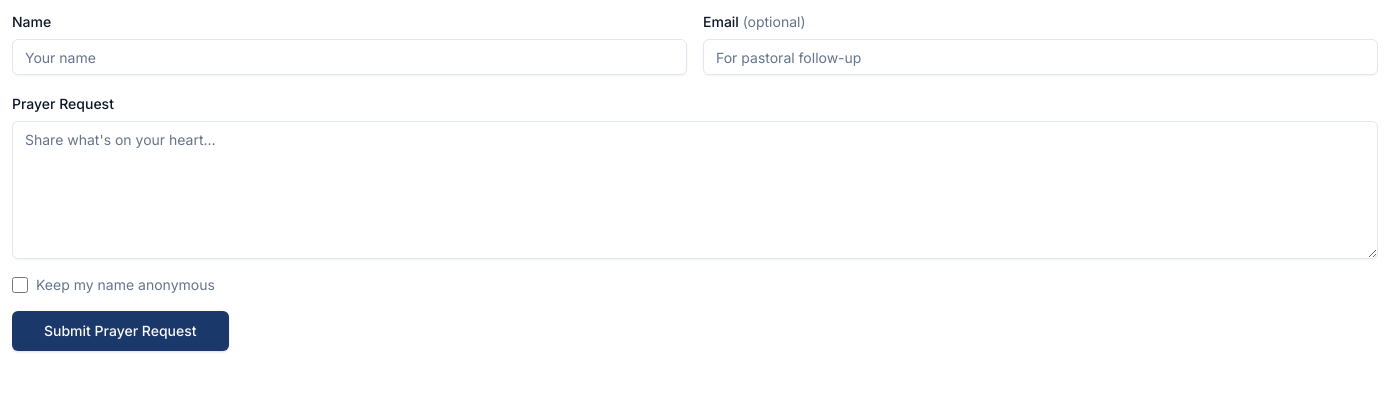
Test case: PrayerRequestForm › client-side validation on submit › shows "Name is required." when name is empty
This screenshot has width=1390, height=413.
Click the button "Submit Prayer Request".
click(120, 331)  # box x1=12 y1=311 x2=228 y2=351
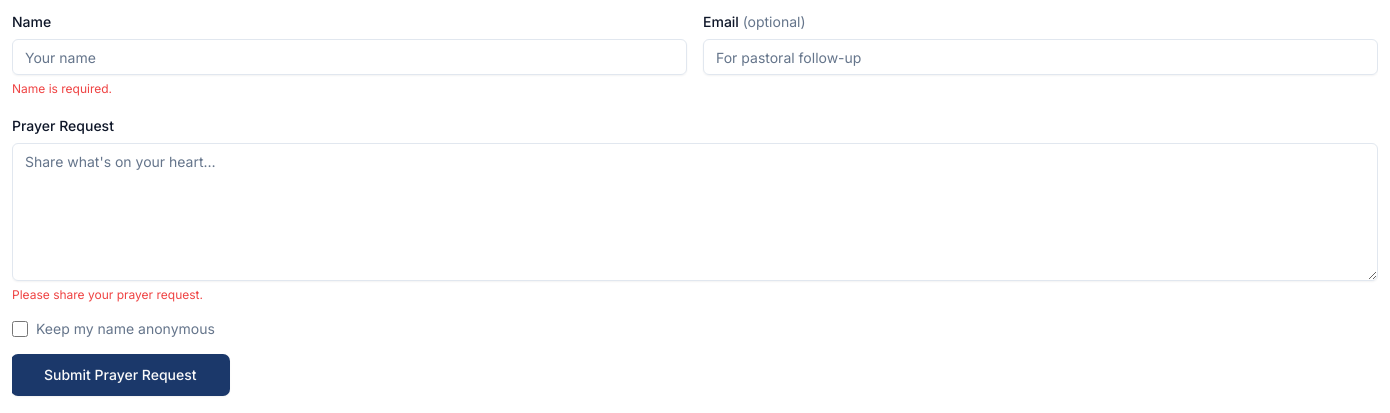
Now the text "Name is required." is shown, box x1=12 y1=81 x2=112 y2=96
